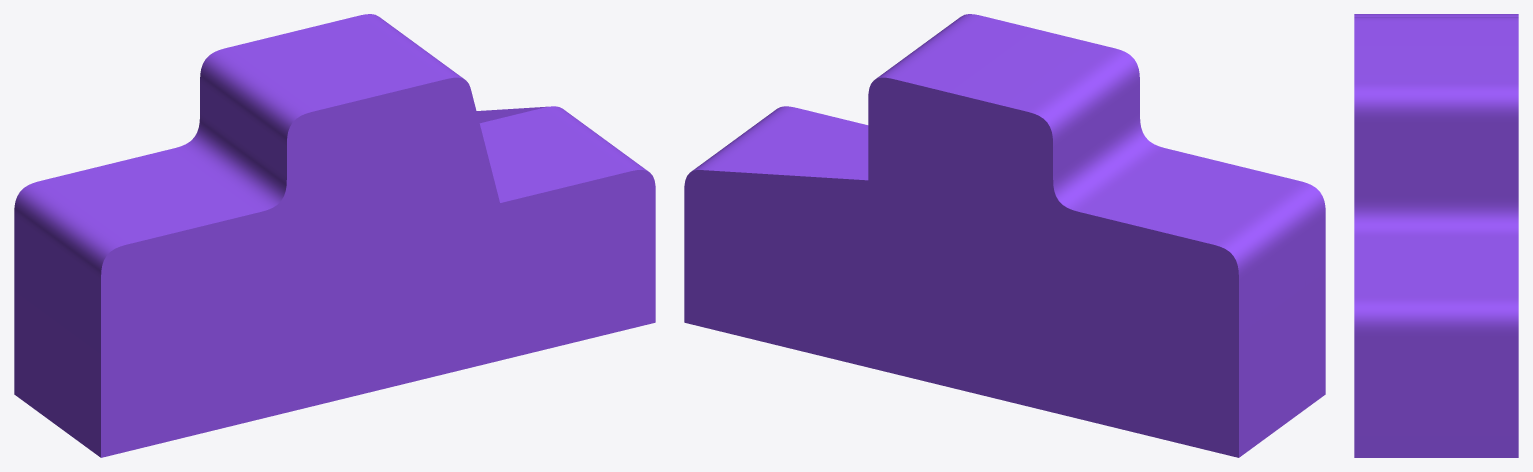
File: Winners Pedestal Cube A.fbx
3 renders of one model, left to right at view 1: azimuth 30°, elevation 25°; view 2: azimuth 150°, elevation 25°; view 3: azimuth 270°, elevation 25°, orthographic. The views are drawn at different scales.
Visible parts, largest first — view 1: Winners Pedestal Cube A; view 2: Winners Pedestal Cube A; view 3: Winners Pedestal Cube A.
Part boxes in pixels (x1,y1,x2,y2): Winners Pedestal Cube A: (14, 14, 655, 457); Winners Pedestal Cube A: (684, 14, 1325, 457); Winners Pedestal Cube A: (1354, 14, 1518, 457).
Size of the model in its own units: 377 by 192 by 102.
